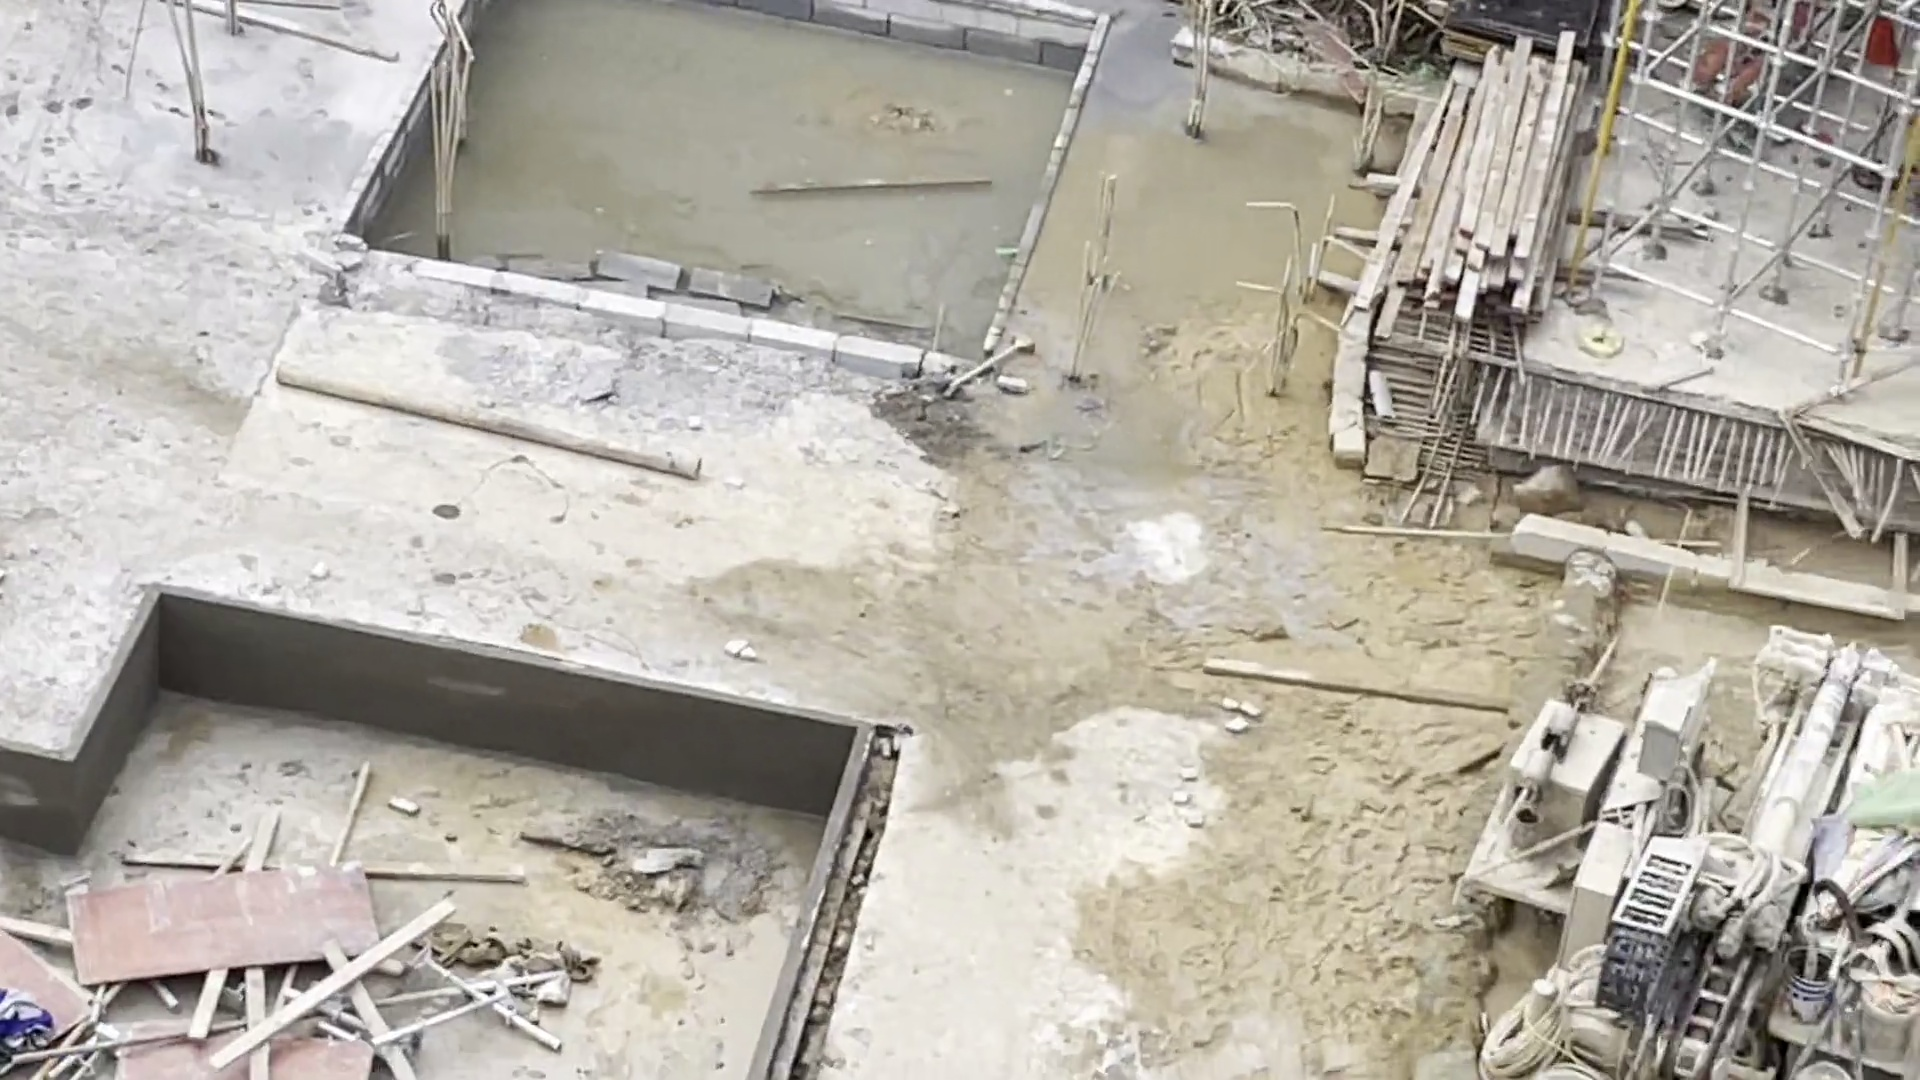wood: (1356, 25, 1586, 349)
